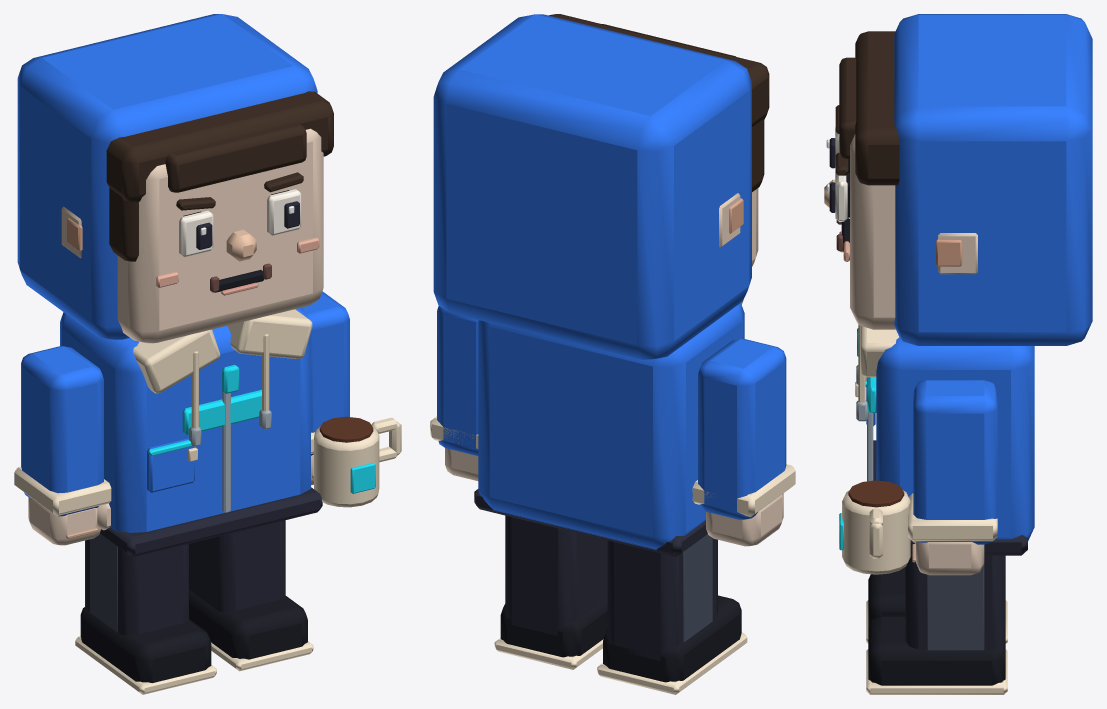
The model's file is sysadmin.glb.
3 views of the same model, side by side, from view 1: azimuth 30°, elevation 25°; view 2: azimuth 150°, elevation 25°; view 3: azimuth 270°, elevation 25° (orthographic). The views are drawn at different scales.
Parts seen in each view (by area): view 1: Batch_Head_CITY / #2f7bff, Batch_Body_CITY / #2f7bff, Batch_Head_CITY / #f1d9c5.003, Batch_Head_CITY / #3a2a20, Arm_L_sleeve, Batch_Body_CITY / cream.003, Leg_R_trouser, Leg_L_trouser, Leg_L_shoe, Leg_R_shoe, Batch_Body_CITY / charcoal.003, Arm_R_sleeve (+13 smaller); view 2: Batch_Head_CITY / #2f7bff, Batch_Body_CITY / #2f7bff, Arm_L_sleeve, Leg_R_trouser, Leg_L_trouser, Arm_R_sleeve, Leg_L_shoe, Leg_R_shoe, Batch_Head_CITY / #3a2a20, Batch_Leg_L_CITY / #475061.003, Arm_L_hand, Batch_Leg_L_CITY / cream.003 (+5 smaller); view 3: Batch_Head_CITY / #2f7bff, Batch_Body_CITY / #2f7bff, Arm_R_sleeve, Batch_Head_CITY / #3a2a20, Batch_Head_CITY / #f1d9c5.003, Batch_Arm_R_CITY / cream.003, Leg_R_shoe, Batch_Leg_R_CITY / #475061.003, Leg_R_trouser, Arm_R_hand, Leg_L_shoe, Batch_Leg_R_CITY / cream.003 (+7 smaller).
Boxes of the visible parts, x1,y1,x2,y2 form: Batch_Head_CITY / #2f7bff: (17,14,317,339); Batch_Body_CITY / #2f7bff: (60,307,310,532); Batch_Head_CITY / #f1d9c5.003: (61,128,323,343); Batch_Head_CITY / #3a2a20: (106,91,333,261); Arm_L_sleeve: (21,346,103,516); Batch_Body_CITY / cream.003: (133,309,312,461); Leg_R_trouser: (189,520,285,612); Leg_L_trouser: (85,539,188,635); Leg_L_shoe: (80,607,211,682); Leg_R_shoe: (189,590,307,659); Batch_Body_CITY / charcoal.003: (100,487,322,557); Arm_R_sleeve: (302,291,349,455); Batch_Head_CITY / #2f7bff: (433,14,751,359); Batch_Body_CITY / #2f7bff: (478,303,744,550); Arm_L_sleeve: (698,339,786,519); Leg_R_trouser: (505,515,607,635); Leg_L_trouser: (607,538,717,660); Arm_R_sleeve: (437,306,478,455); Leg_L_shoe: (603,595,741,682); Leg_R_shoe: (500,597,607,657); Batch_Head_CITY / #3a2a20: (549,14,769,191); Batch_Leg_L_CITY / #475061.003: (683,534,712,641); Arm_L_hand: (706,493,783,546); Batch_Leg_L_CITY / cream.003: (597,632,747,694); Batch_Head_CITY / #2f7bff: (894,14,1092,345); Batch_Body_CITY / #2f7bff: (866,337,1034,540); Arm_R_sleeve: (913,380,997,544); Batch_Head_CITY / #3a2a20: (835,31,899,185); Batch_Head_CITY / #f1d9c5.003: (850,134,977,329); Batch_Arm_R_CITY / cream.003: (842,490,997,574); Leg_R_shoe: (868,616,1005,685); Batch_Leg_R_CITY / #475061.003: (926,563,984,650); Leg_R_trouser: (905,555,1005,652); Arm_R_hand: (916,541,984,575); Leg_L_shoe: (868,567,905,627); Batch_Leg_R_CITY / cream.003: (866,649,1007,694).
Size of the model in its own units: 0.7505 by 1.24 by 0.5085.
